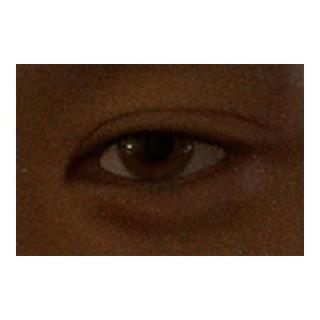pupil: (139, 127, 173, 161)
